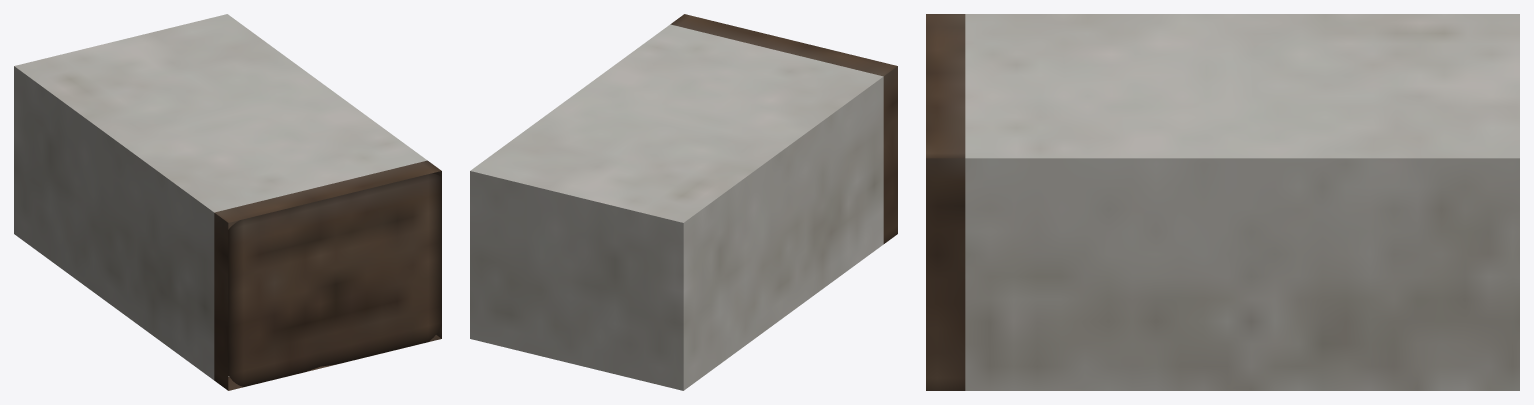
Rendered from SM_EC_House_Kitchen_Cupboard_Static_05.fbx.
3 views of the same model, side by side, from view 1: azimuth 30°, elevation 25°; view 2: azimuth 150°, elevation 25°; view 3: azimuth 270°, elevation 25° (orthographic). The views are drawn at different scales.
Parts seen in each view (by area): view 1: SM_EC_House_Kitchen_Cupboard_Static_05; view 2: SM_EC_House_Kitchen_Cupboard_Static_05; view 3: SM_EC_House_Kitchen_Cupboard_Static_05.
Boxes of the visible parts, x1,y1,x2,y2 form: SM_EC_House_Kitchen_Cupboard_Static_05: (14,14,441,390); SM_EC_House_Kitchen_Cupboard_Static_05: (470,14,897,390); SM_EC_House_Kitchen_Cupboard_Static_05: (926,14,1519,390).
Bounding box in the file's own units: 0.4337 × 0.7546 × 0.3263.
